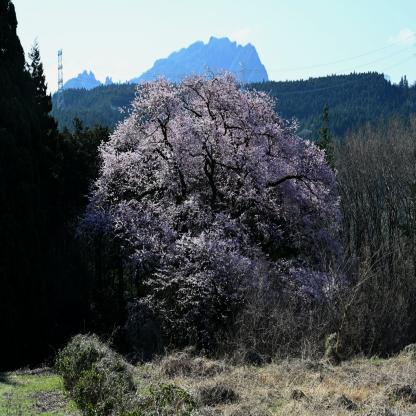EdohiganSakura: (72, 67, 344, 354)
